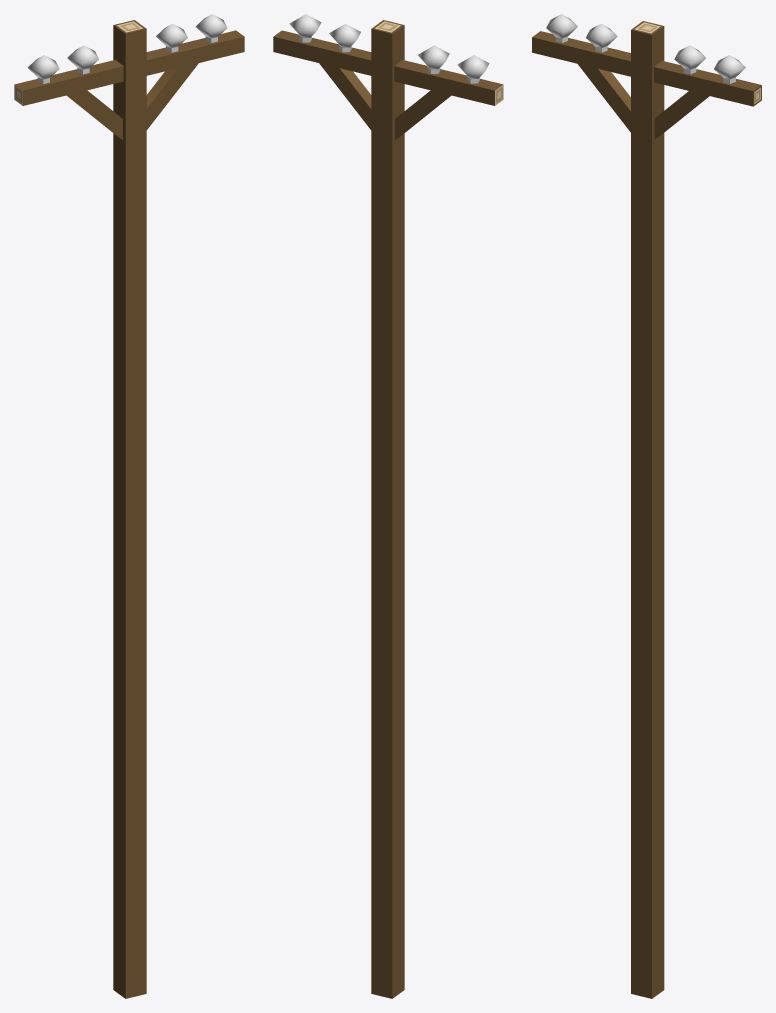
Rendered from Electric_pole.FBX.
3 renders of one model, left to right at view 1: azimuth 30°, elevation 25°; view 2: azimuth 150°, elevation 25°; view 3: azimuth 330°, elevation 25°, orthographic.
Visible parts, largest first — view 1: Electric_pole; view 2: Electric_pole; view 3: Electric_pole.
Boxes of the visible parts, bbox=[...] form: Electric_pole: bbox=[14, 14, 244, 998]; Electric_pole: bbox=[273, 14, 503, 998]; Electric_pole: bbox=[532, 14, 761, 998].
Size of the model in its own units: 0.9592 by 3.99 by 0.1155.
Materials: 1 (1 with a texture image).
